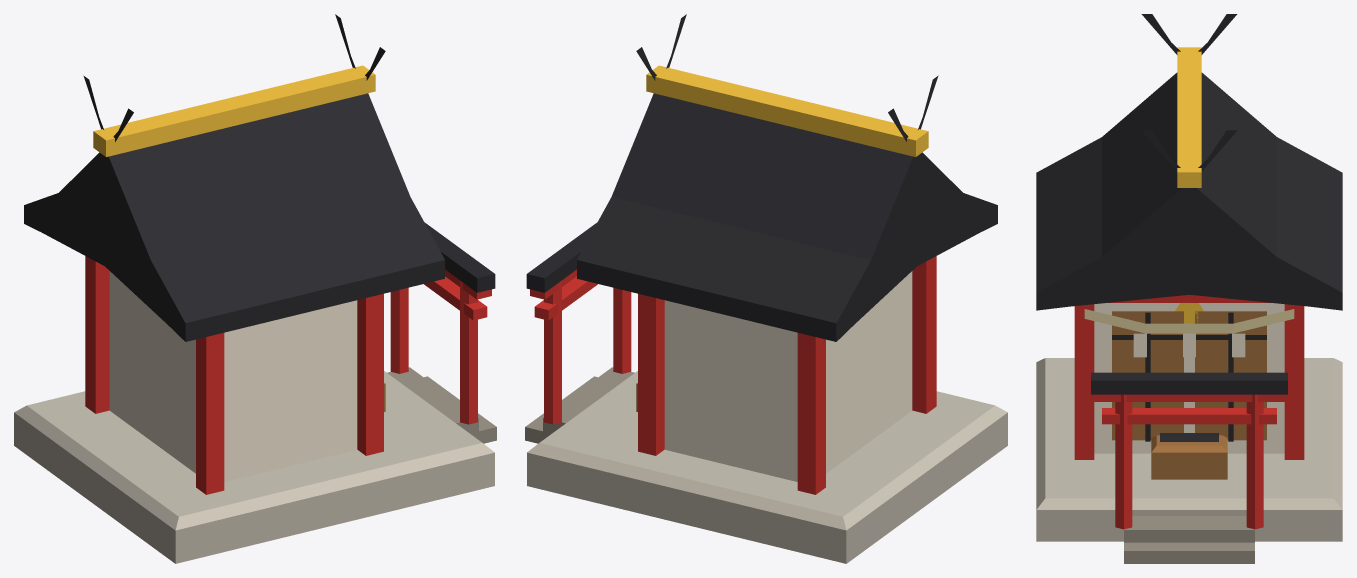
The model's file is shrine_small.glb.
3 views of the same model, side by side, from view 1: azimuth 30°, elevation 25°; view 2: azimuth 150°, elevation 25°; view 3: azimuth 270°, elevation 25° (orthographic). The views are drawn at different scales.
Visible parts, largest first — view 1: shrine_small; view 2: shrine_small; view 3: shrine_small.
Part boxes in pixels (x1,y1,x2,y2): shrine_small: (14,14,496,563); shrine_small: (525,14,1007,563); shrine_small: (1036,14,1342,563).
Size of the model in its own units: 0.368 by 0.39 by 0.28.
